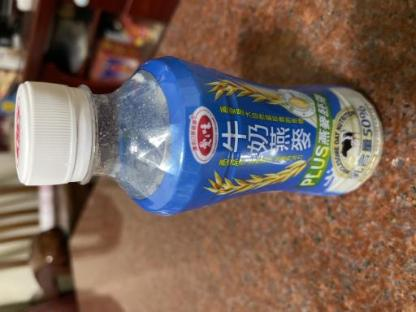Plastic Bottle: (16, 57, 382, 214)
